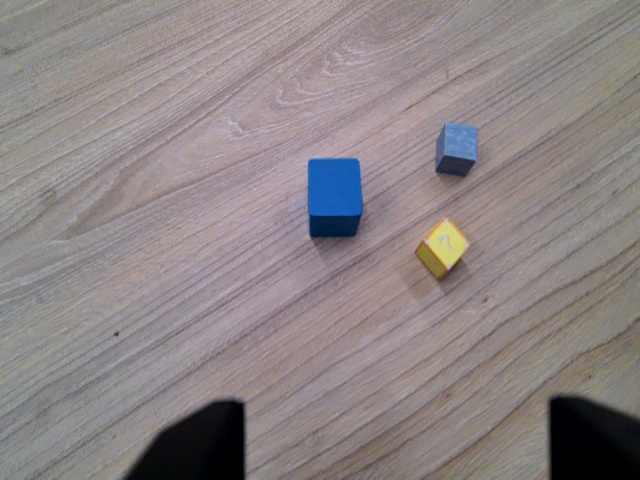lucky: (414, 216, 470, 282)
stone: (431, 121, 482, 179)
